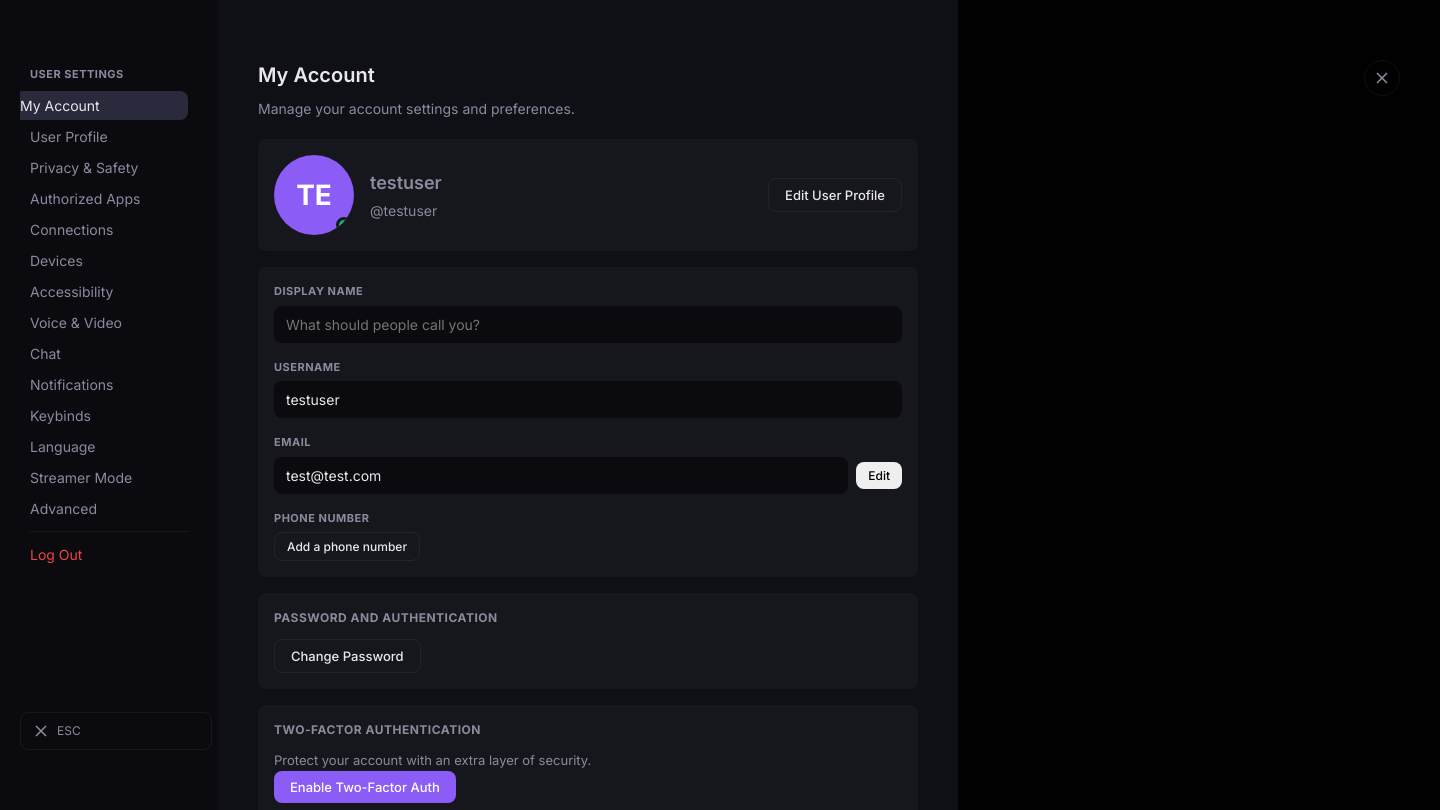
Settings › renders Notifications section
What coordinates should you click on to do the following:
click the button "Notifications"
I would click on:
 (109, 384)
Its box is left=20, top=370, right=198, bottom=398.
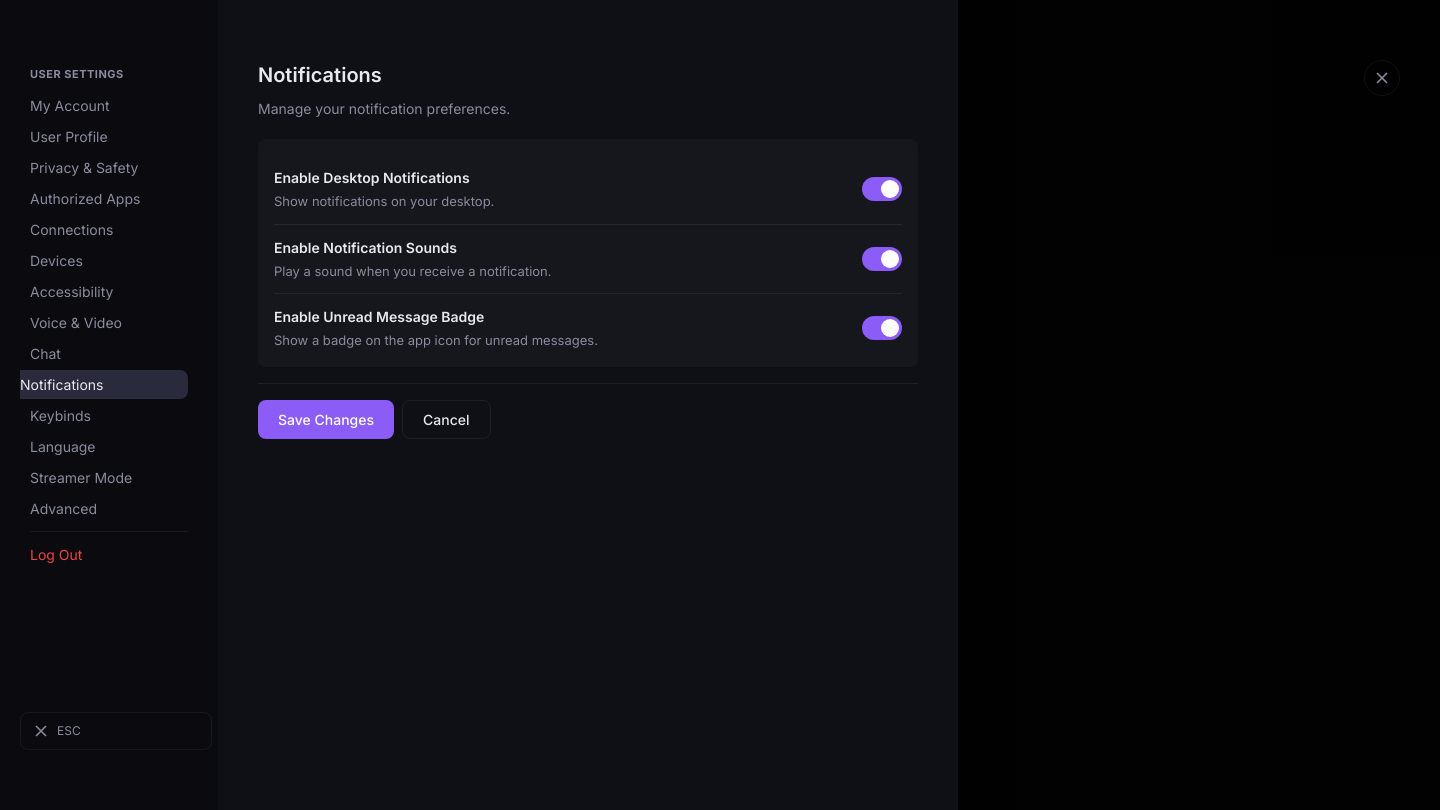
Expected: the heading "Enable Desktop Notifications" is shown, left=274, top=169, right=470, bottom=186
Expected: the heading "Enable Notification Sounds" is shown, left=274, top=238, right=457, bottom=256
